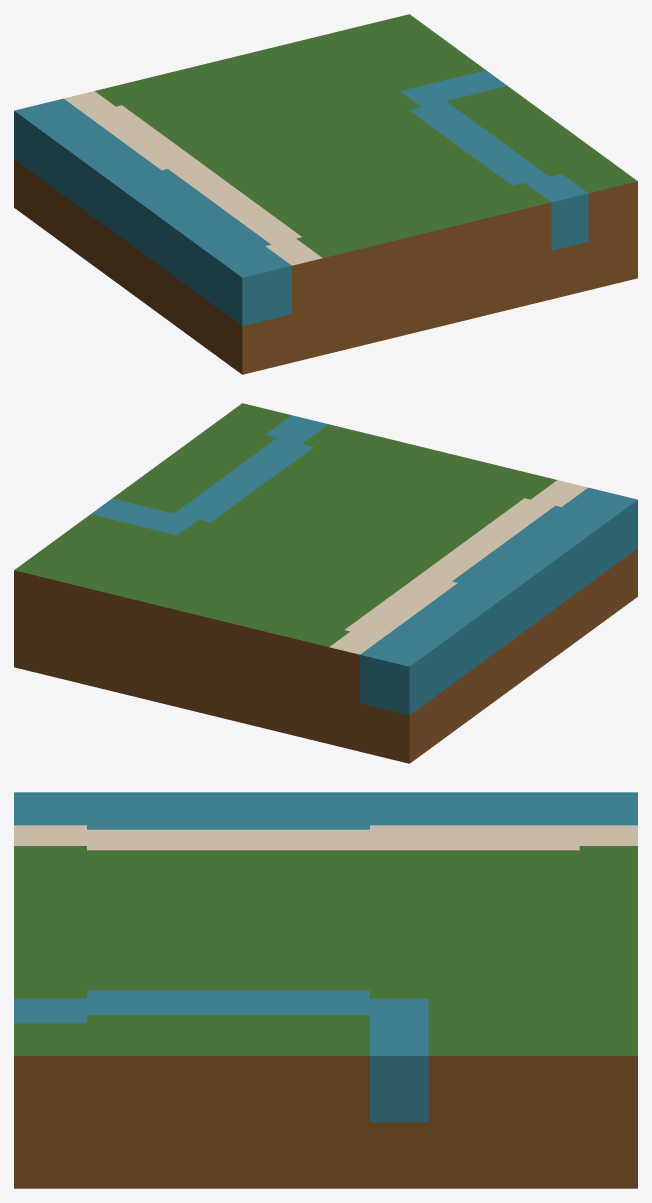
The model's file is map.glb.
The picture shows the model from 3 angles, top to bottom: view 1: azimuth 30°, elevation 25°; view 2: azimuth 150°, elevation 25°; view 3: azimuth 270°, elevation 25°; orthographic projection. The views are drawn at different scales.
Parts seen in each view (by area): view 1: map; view 2: map; view 3: map.
Boxes of the visible parts, x1,y1,x2,y2 form: map: (14,14,637,374); map: (14,403,637,763); map: (14,792,637,1188).
Bounding box in the file's own units: 1280 × 300 × 1280.
